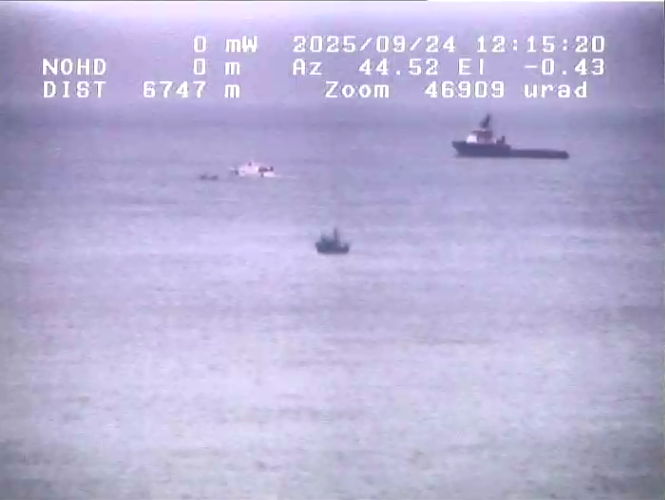OFFSHORE_SUPPLY_VESSEL: (441, 101, 585, 171)
PATROL_VESSEL: (227, 151, 284, 188)
TUGS: (297, 221, 362, 270)
